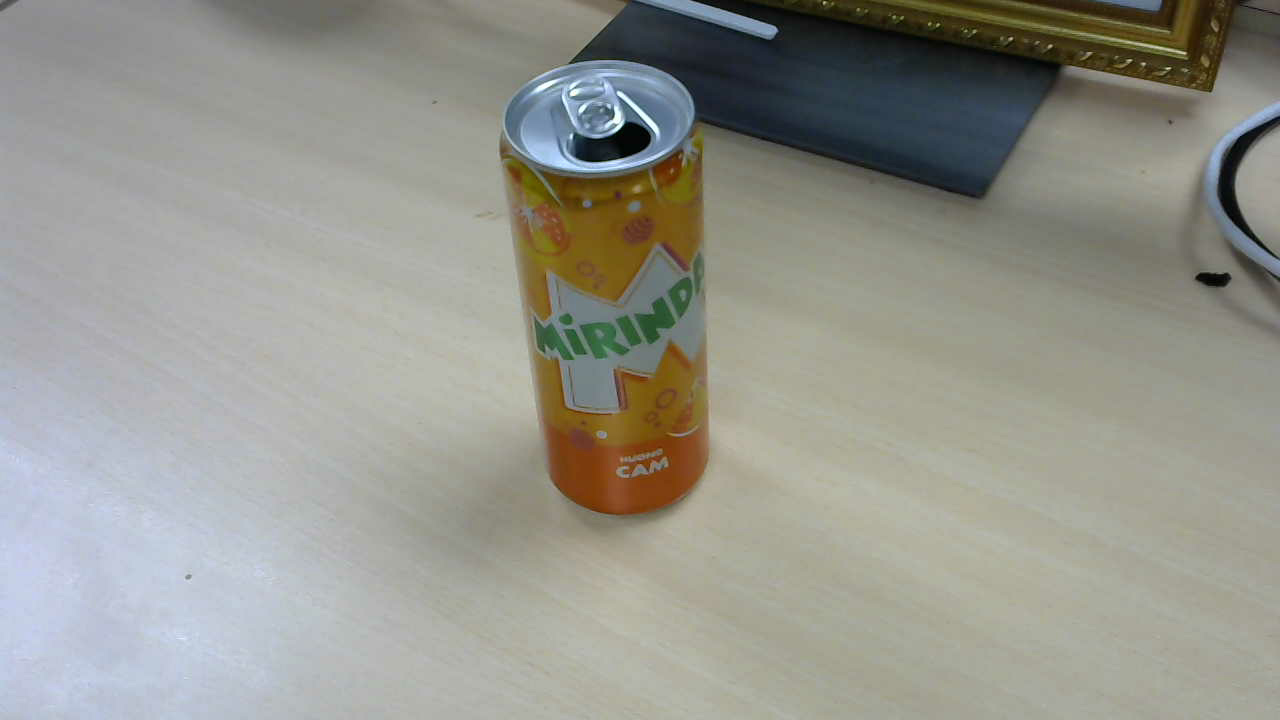Mirinda: (500, 64, 719, 524)
